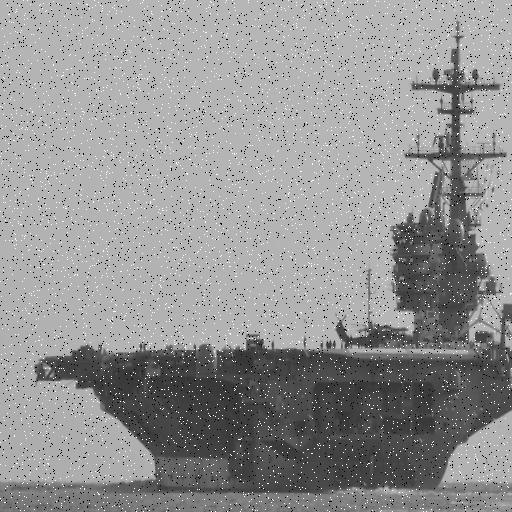Portanaves: (30, 16, 512, 488)
